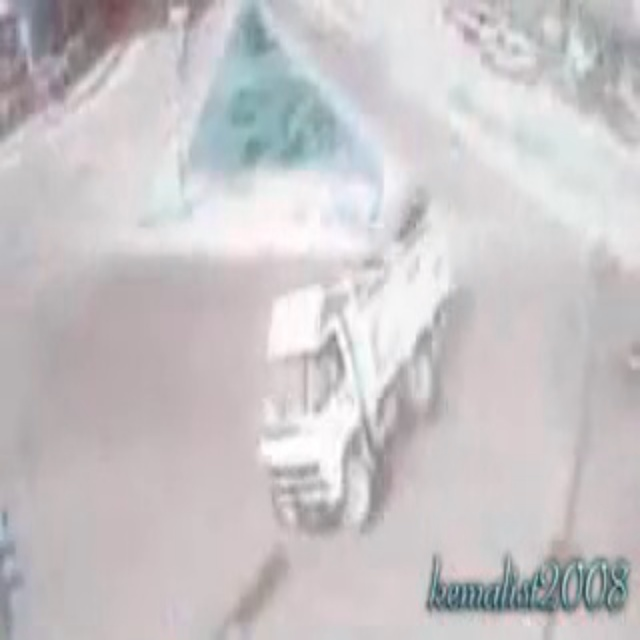acc: (257, 203, 457, 526)
